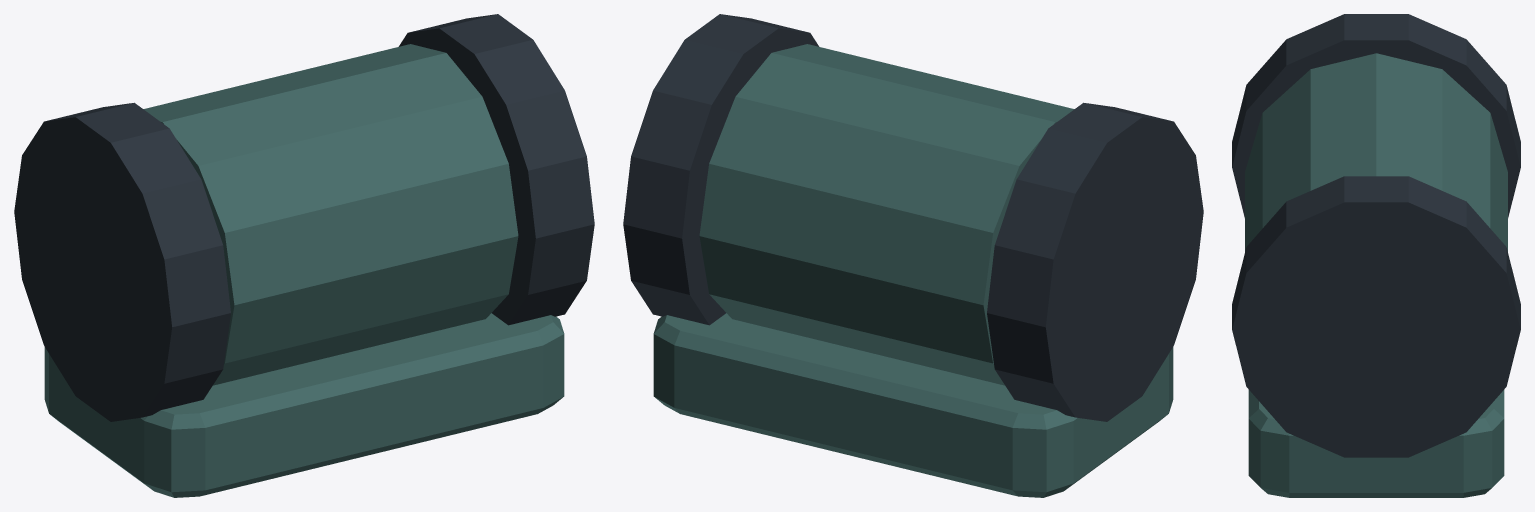
File: L-30_bench_grinder.glb
3 renders of one model, left to right at view 1: azimuth 30°, elevation 25°; view 2: azimuth 150°, elevation 25°; view 3: azimuth 270°, elevation 25°, orthographic. The views are drawn at different scales.
Parts seen in each view (by area): view 1: L-30_bench_grinder; view 2: L-30_bench_grinder; view 3: L-30_bench_grinder.
Part boxes in pixels (box(x1,y1,x2,y2)): L-30_bench_grinder: box(14, 14, 594, 497); L-30_bench_grinder: box(623, 14, 1203, 497); L-30_bench_grinder: box(1232, 14, 1520, 497).
Size of the model in its own units: 0.244 by 0.182 by 0.158.
